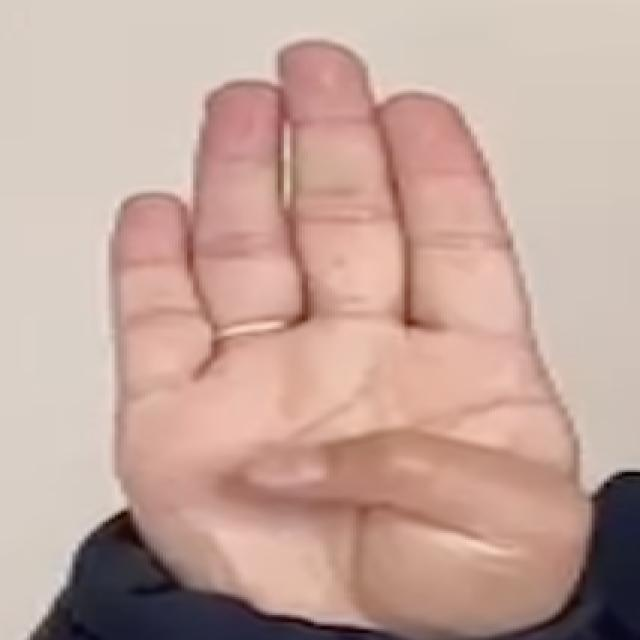B: (94, 28, 608, 621)
